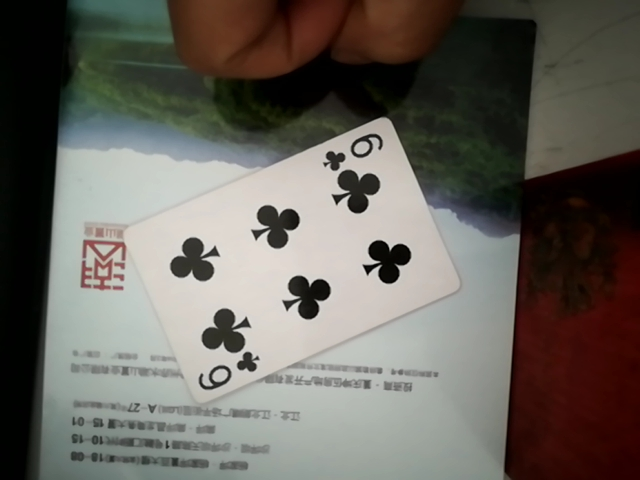mh 6: (82, 114, 459, 396)
